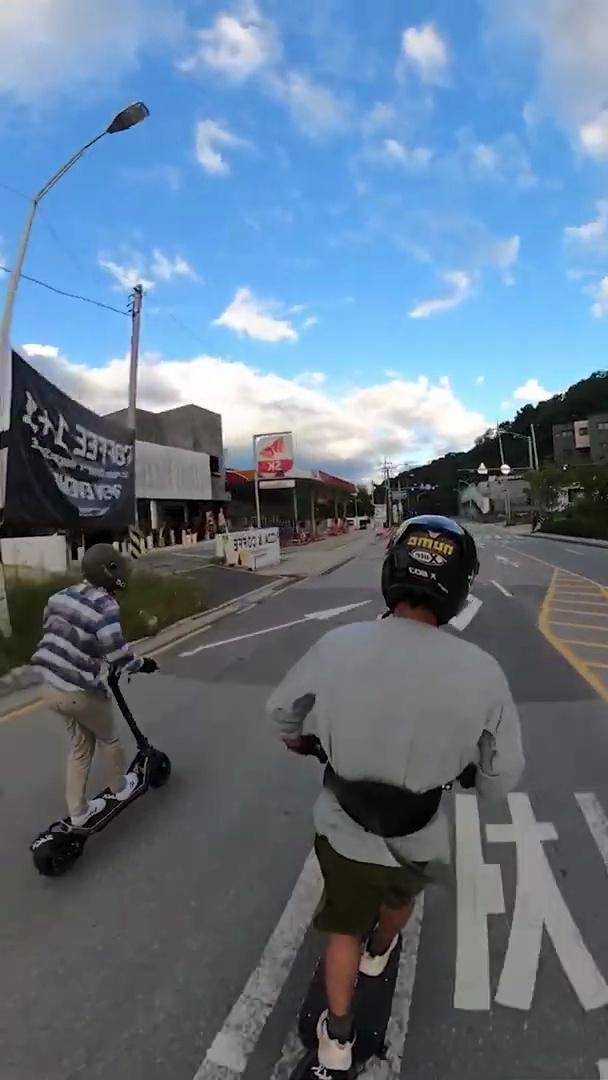helmet: (267, 512, 526, 1080), (27, 540, 177, 875)
